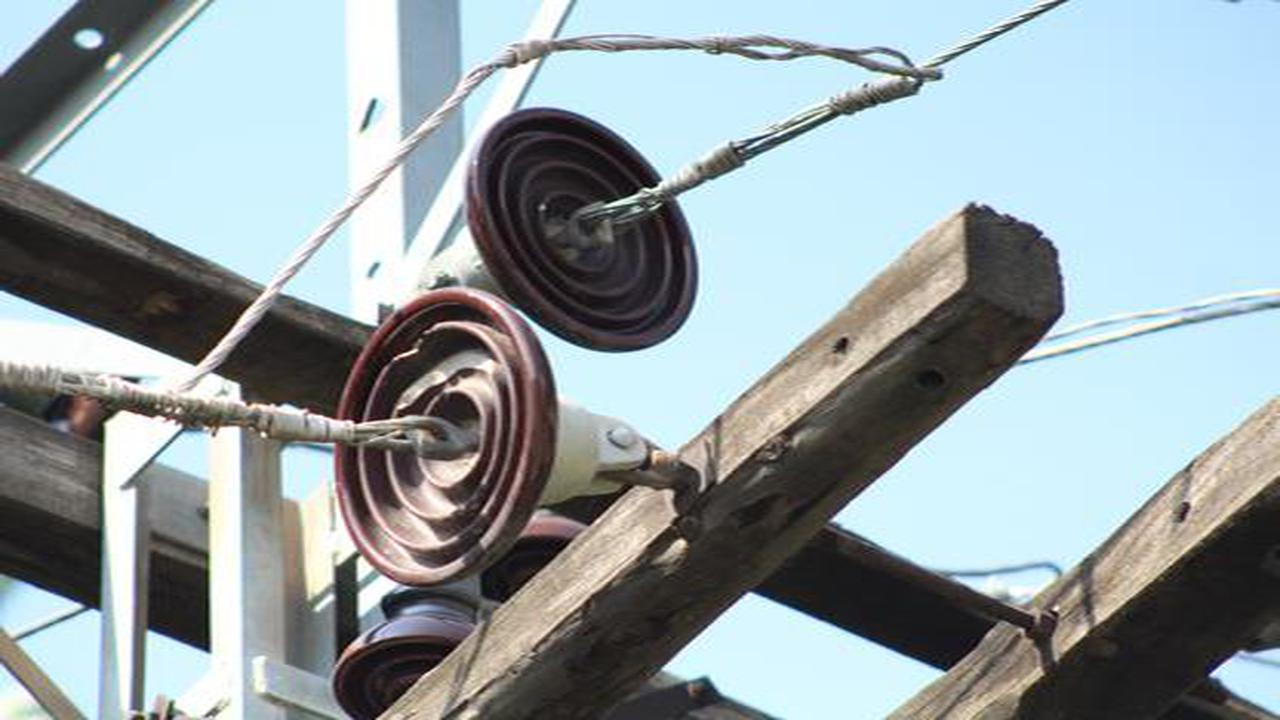insulator_disc: (328, 286, 564, 586), (463, 104, 706, 364)
insulator_pin: (327, 586, 482, 711)
